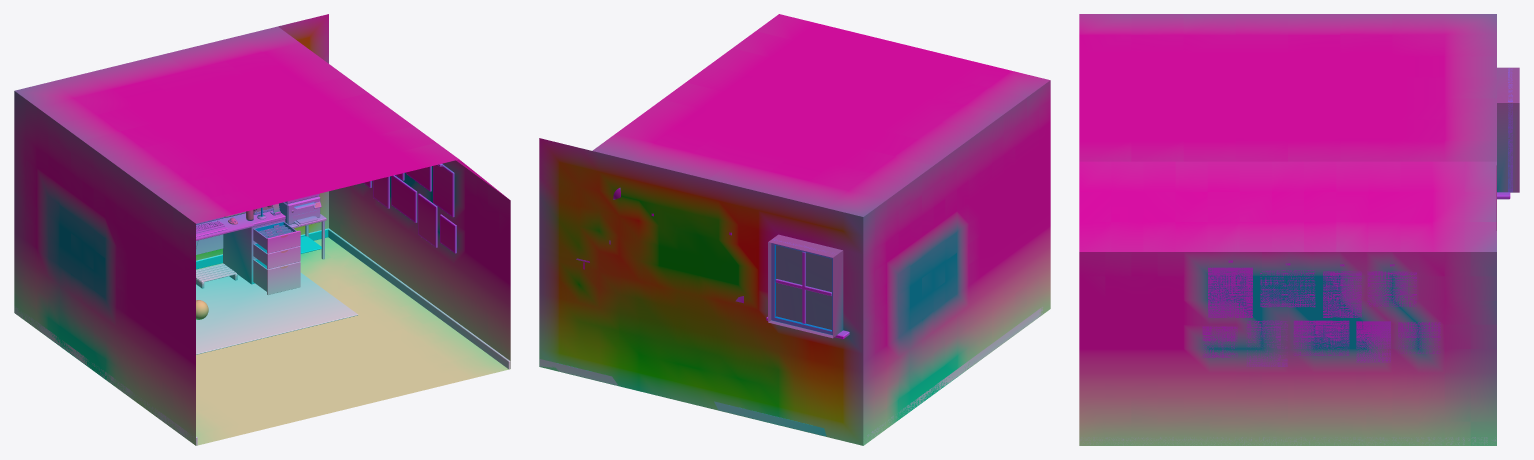
The model's file is room.glb.
3 renders of one model, left to right at view 1: azimuth 30°, elevation 25°; view 2: azimuth 150°, elevation 25°; view 3: azimuth 270°, elevation 25°, orthographic. The views are drawn at different scales.
Visible parts, largest first — view 1: Room, Gallery, Desk, Printer, Drawer_R0, Drawer, Drawer_R1, Under; view 2: Room, Window; view 3: Room, Gallery, Window.
Boxes of the visible parts, <box> form: Room: <box>14,14,510,445</box>; Gallery: <box>363,164,456,253</box>; Desk: <box>196,210,285,284</box>; Printer: <box>279,193,326,259</box>; Drawer_R0: <box>253,259,300,294</box>; Drawer: <box>253,221,300,253</box>; Drawer_R1: <box>253,243,300,269</box>; Under: <box>196,240,237,288</box>; Room: <box>539,14,1050,445</box>; Window: <box>766,239,849,339</box>; Room: <box>1079,14,1519,445</box>; Gallery: <box>1202,260,1440,366</box>; Window: <box>1497,68,1512,199</box>.
Bounding box in the file's own units: 4 × 2.7 × 4.22.
